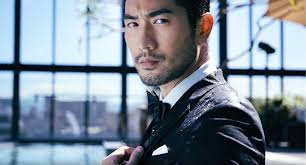asian_male: (126, 1, 216, 90)
